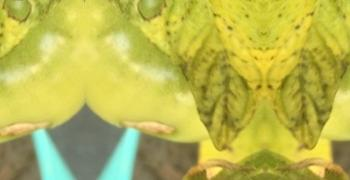Tomato Septoria leaf spot: (83, 0, 266, 152)
